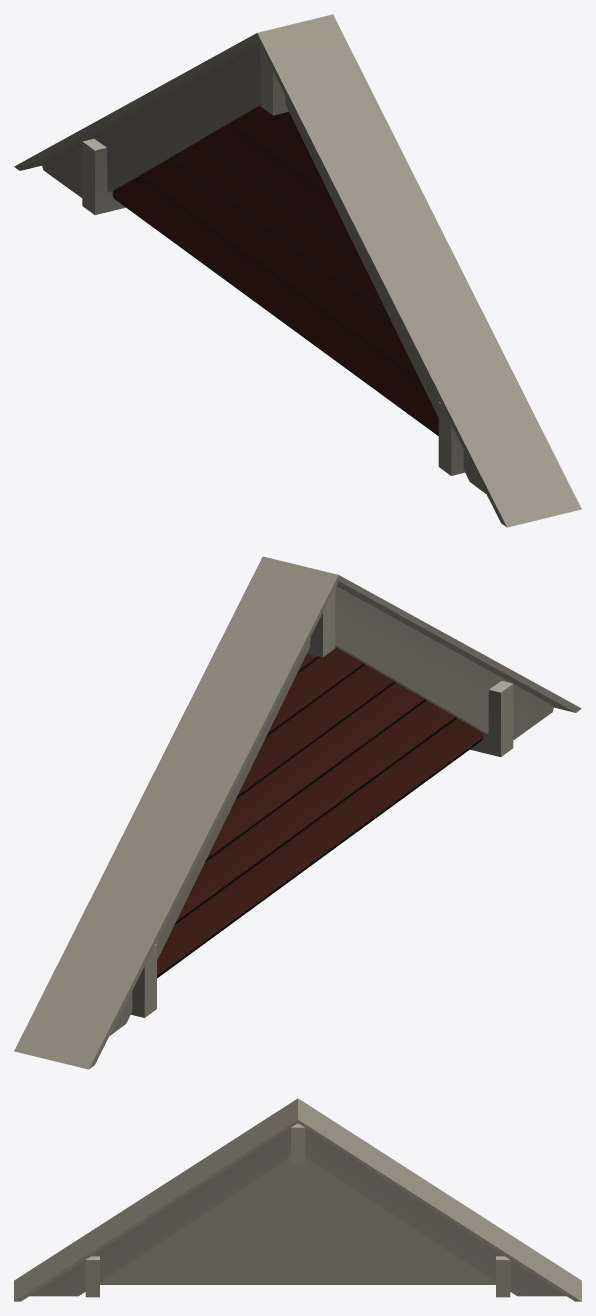
File: TSP_House_Wall_Roof_06A.fbx
3 renders of one model, top to bottom at view 1: azimuth 30°, elevation 25°; view 2: azimuth 150°, elevation 25°; view 3: azimuth 270°, elevation 25°, orthographic. The views are drawn at different scales.
Visible parts, largest first — view 1: TSP_House_Wall_Roof_06A; view 2: TSP_House_Wall_Roof_06A; view 3: TSP_House_Wall_Roof_06A.
Part boxes in pixels (box(x1,y1,x2,y2)): TSP_House_Wall_Roof_06A: box(14, 14, 581, 527); TSP_House_Wall_Roof_06A: box(14, 556, 581, 1069); TSP_House_Wall_Roof_06A: box(14, 1098, 581, 1301).
Bounding box in the file's own units: 0.5067 × 1.95 × 5.54.
